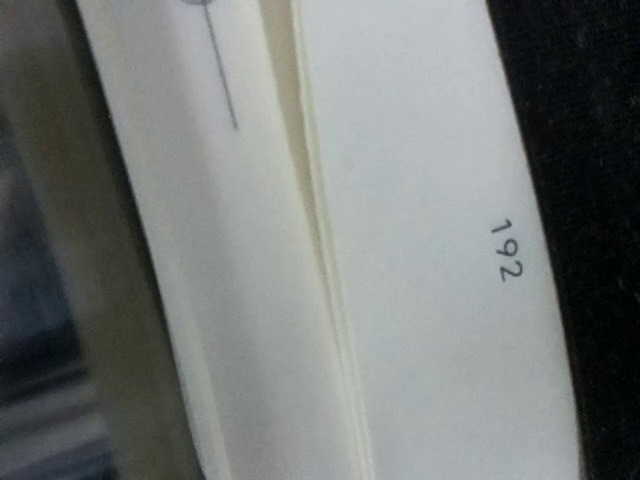not_sure: (160, 1, 256, 64)
